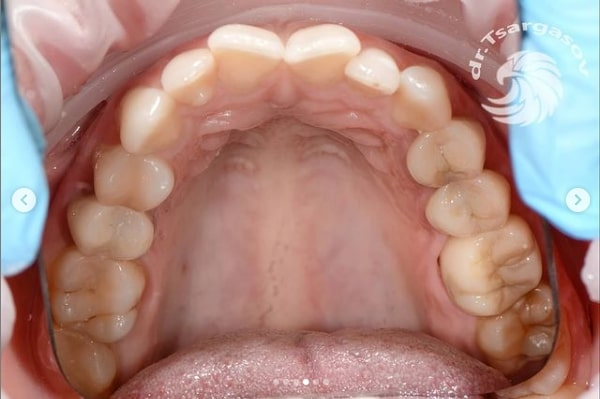UL1BC_decay: (407, 121, 483, 186)
UL1M_healthy: (446, 233, 537, 311)
UL2BC_healthy: (428, 183, 509, 236)
UL2M_decay: (483, 304, 554, 370)
ULCI_healthy: (285, 25, 359, 81)
ULC_healthy: (395, 65, 451, 129)
ULLI_healthy: (346, 48, 398, 96)
UR1BC_healthy: (96, 150, 173, 209)
UR1M_decay: (53, 256, 141, 339)
UR2BC_healthy: (71, 201, 153, 259)
URCI_healthy: (209, 25, 283, 87)
URC_healthy: (120, 89, 179, 151)
URLI_healthy: (163, 49, 214, 105)
